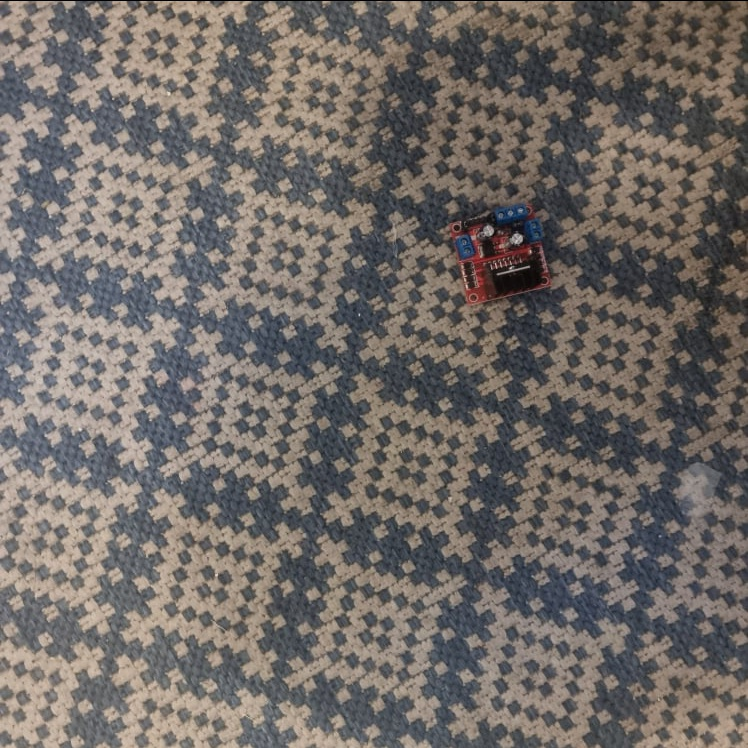MOTOR: (448, 201, 557, 303)
